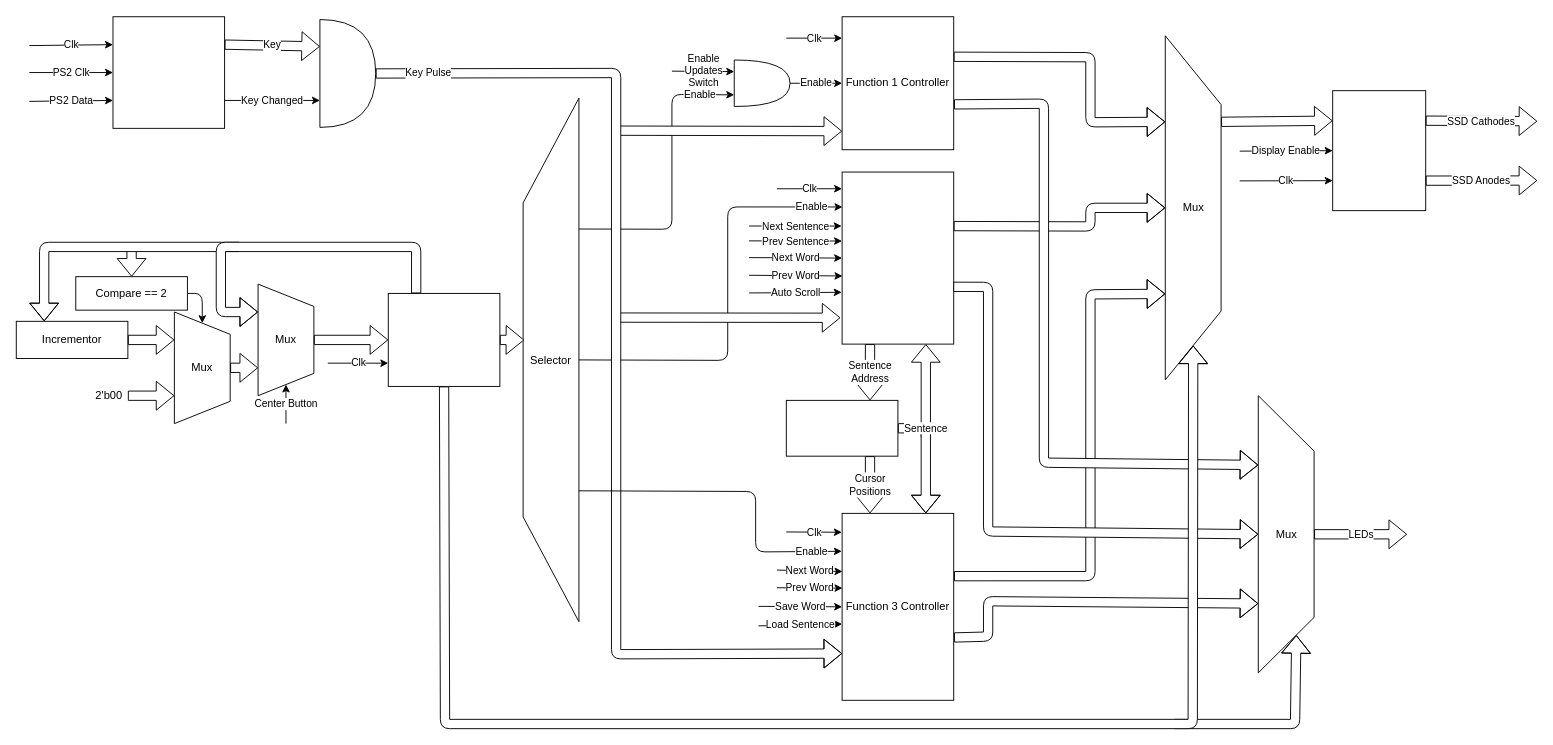
This 1553x745 diagram has some shape labels left out. Each missing label, with the centre of its shape:
"Function 2 Controller" belongs at point 897,257.
"Function Select Register (2 bit D flip flop)" belongs at point 443,339.
"Keyboard Driver" belongs at point 168,72.
"Sentence ROM" belongs at point 841,427.
"Seven Segment Display Controller" belongs at point 1379,150.
